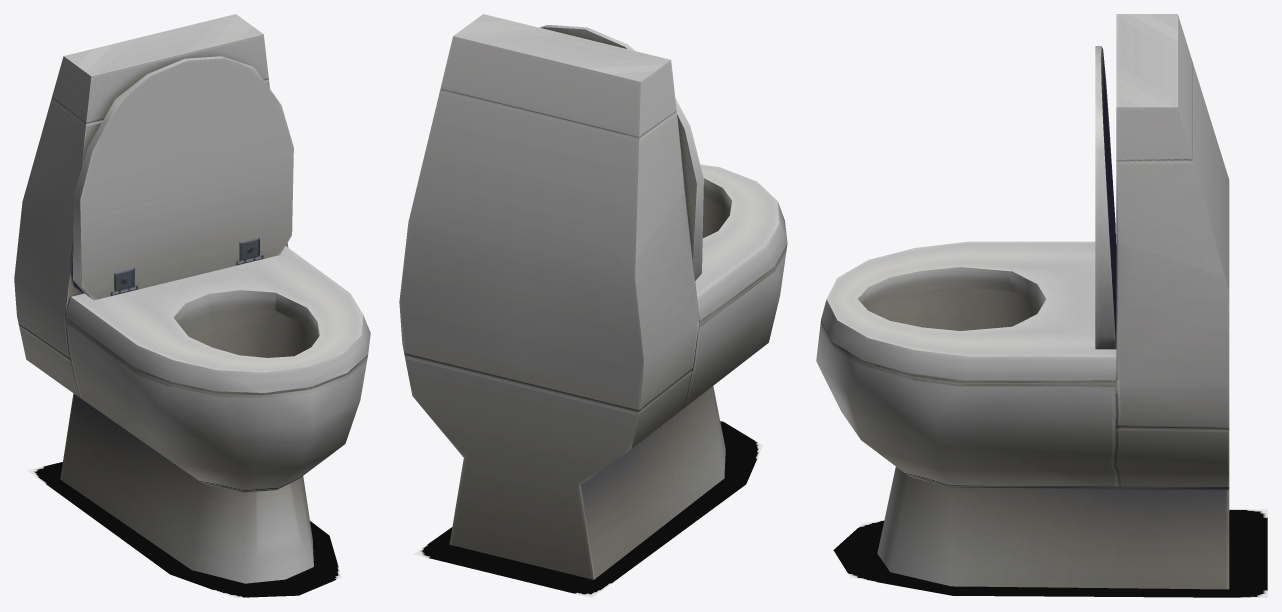
File: jj_ty_matong02.FBX
3 renders of one model, left to right at view 1: azimuth 30°, elevation 25°; view 2: azimuth 150°, elevation 25°; view 3: azimuth 270°, elevation 25°, orthographic. The views are drawn at different scales.
Parts seen in each view (by area): view 1: jj_ty_matong02, shadow; view 2: jj_ty_matong02, shadow; view 3: jj_ty_matong02, shadow.
Part boxes in pixels (box(x1,y1,x2,y2)): jj_ty_matong02: box(14, 14, 370, 583); shadow: box(27, 462, 341, 597); jj_ty_matong02: box(399, 14, 787, 579); shadow: box(413, 421, 762, 597); jj_ty_matong02: box(816, 14, 1229, 589); shadow: box(833, 509, 1267, 597).
Size of the model in its own units: 43.9 by 84.53 by 68.98.
